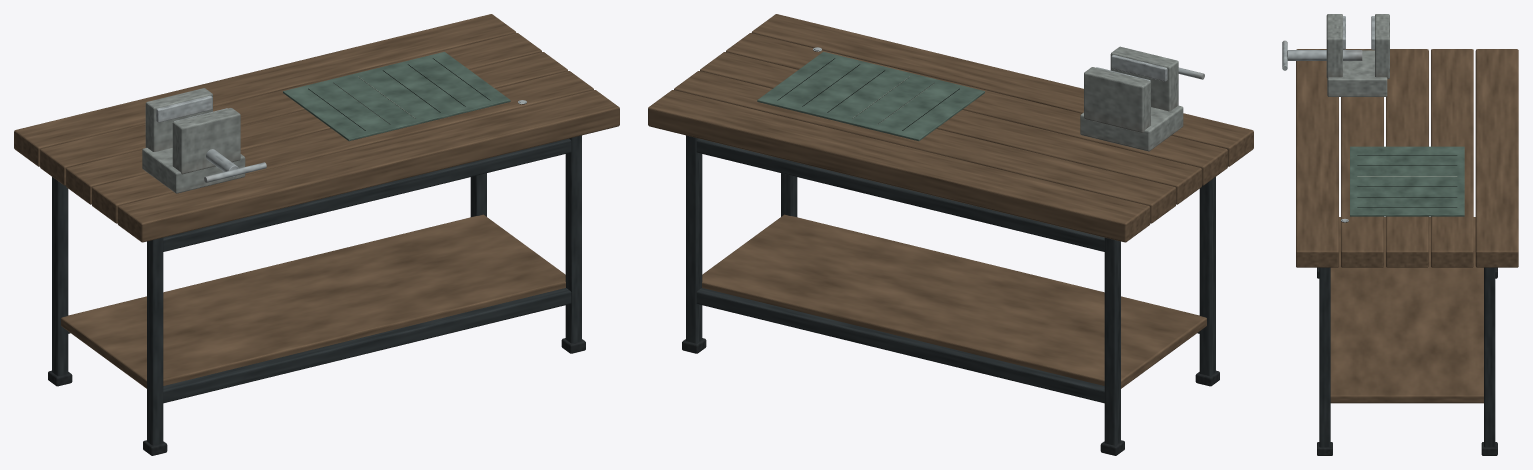
The model's file is GR_Workbench_02.glb.
3 views of the same model, side by side, from view 1: azimuth 30°, elevation 25°; view 2: azimuth 150°, elevation 25°; view 3: azimuth 270°, elevation 25° (orthographic). The views are drawn at different scales.
Parts seen in each view (by area): view 1: Static; view 2: Static; view 3: Static.
Part boxes in pixels (x1,y1,x2,y2): Static: [14, 14, 619, 455]; Static: [648, 14, 1253, 455]; Static: [1282, 14, 1518, 455].
Bounding box in the file's own units: 1.92 × 1.21 × 0.947.
Materials: 1 (1 with a texture image).
